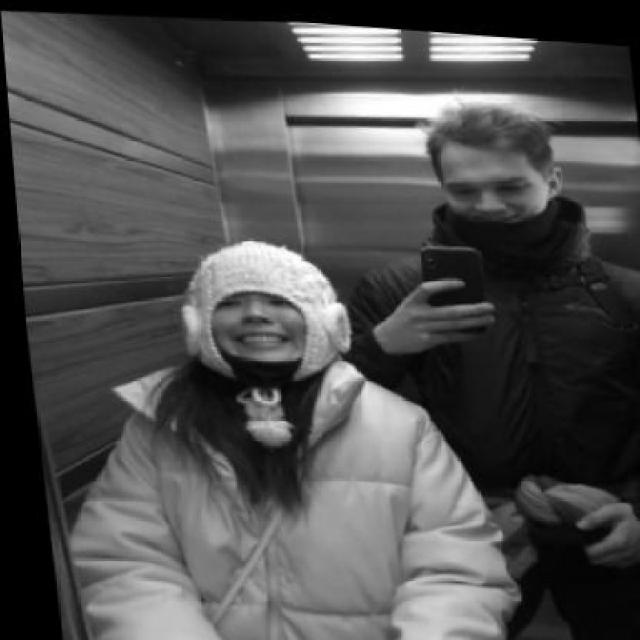hat: (176, 238, 347, 376)
